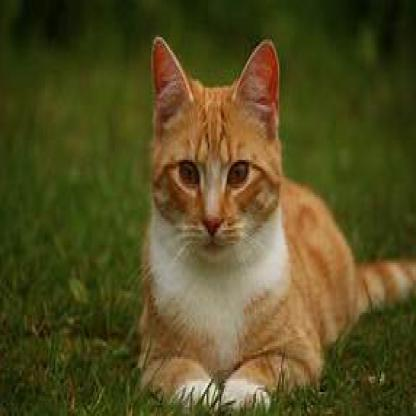cat: (137, 37, 414, 414)
